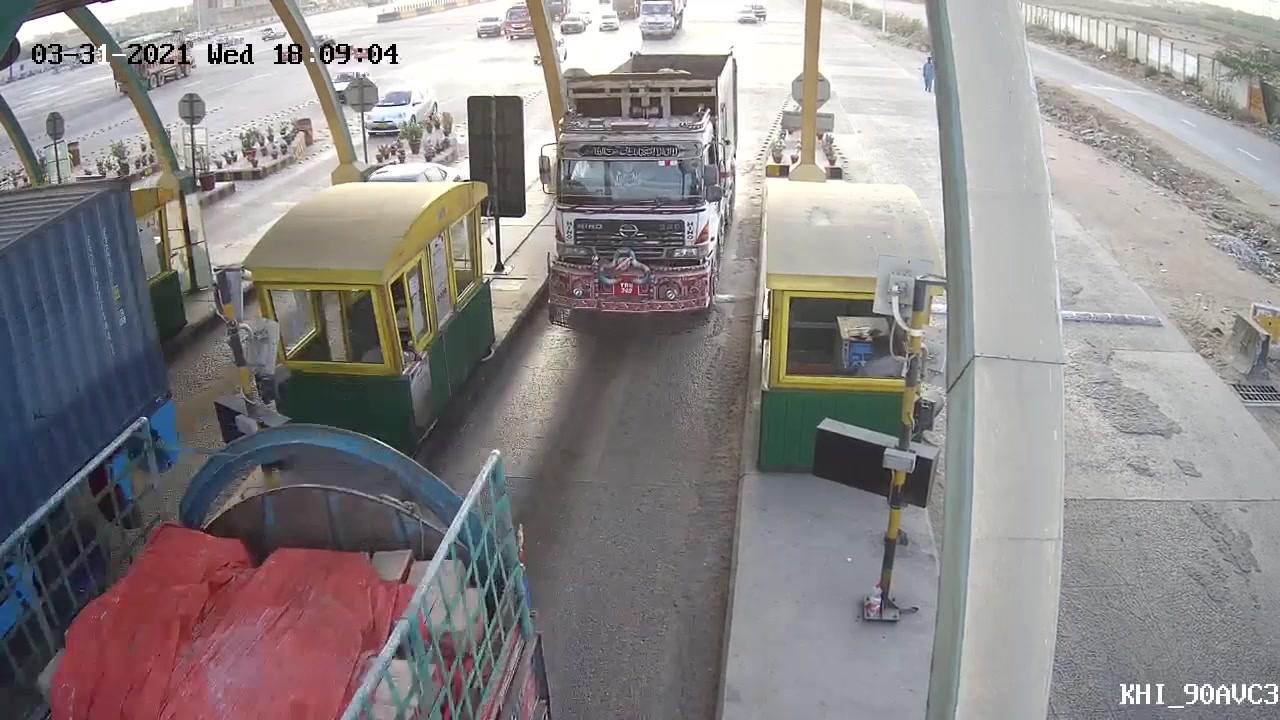F5: (533, 72, 734, 344)
